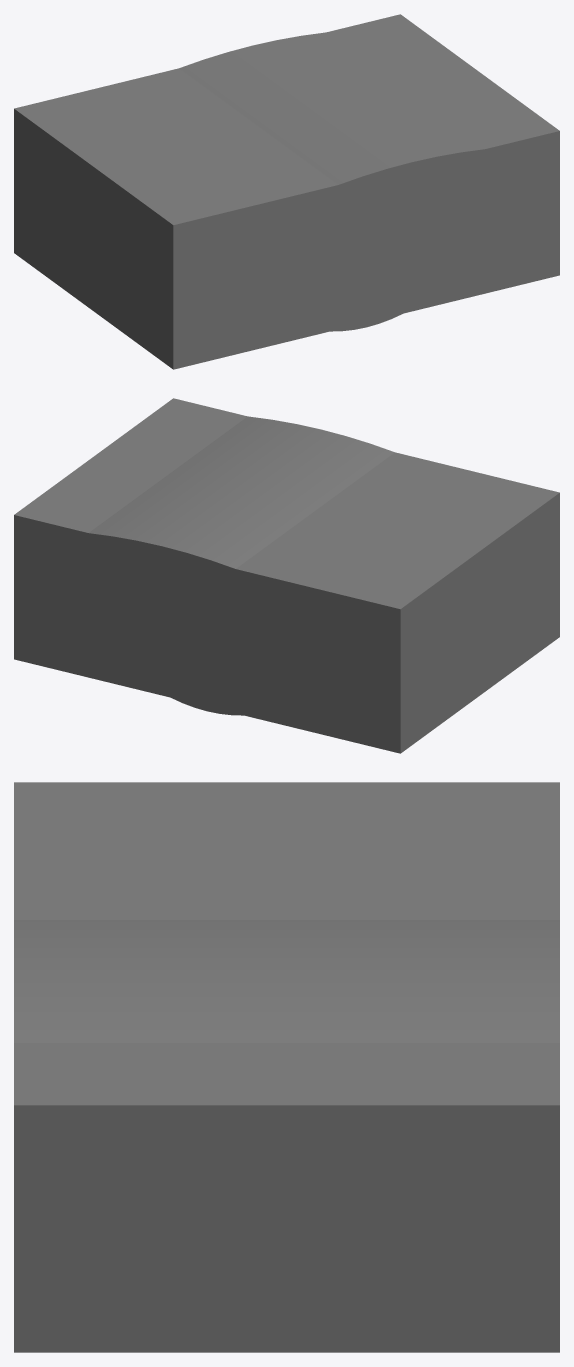
3 renders of one model, top to bottom at view 1: azimuth 30°, elevation 25°; view 2: azimuth 150°, elevation 25°; view 3: azimuth 270°, elevation 25°, orthographic. The views are drawn at different scales.
Parts seen in each view (by area): view 1: mesh_id4, mesh_id5; view 2: mesh_id4, mesh_id5; view 3: mesh_id4, mesh_id5.
Part boxes in pixels (x1,y1,x2,y2): mesh_id4: (14,14,559,369); mesh_id5: (179,32,485,331); mesh_id4: (14,398,559,753); mesh_id5: (88,416,394,715); mesh_id4: (14,782,559,1352); mesh_id5: (14,920,559,1042).
Bounding box in the file's own units: 0.512 × 0.195 × 0.3657.
Materials: 2 (2 with a texture image).
